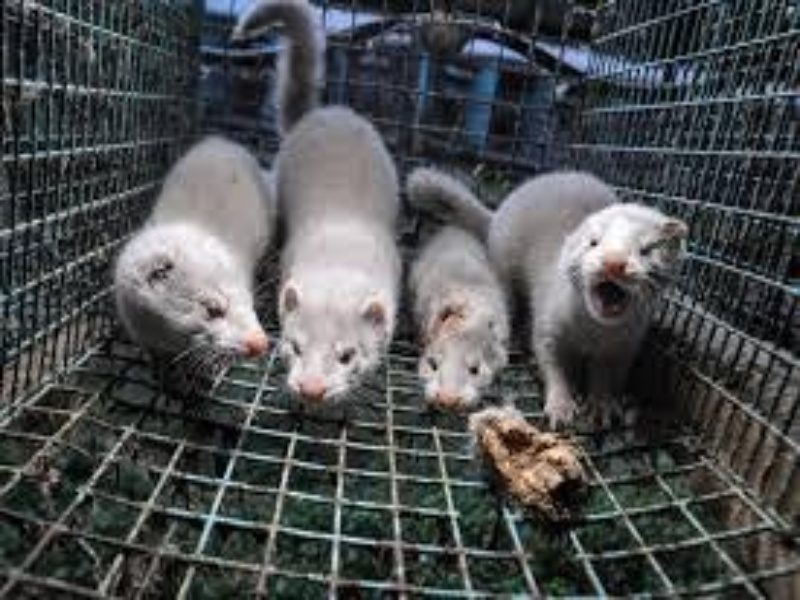minkish: (234, 10, 403, 416), (482, 159, 687, 434), (114, 123, 274, 402), (409, 227, 516, 417)
